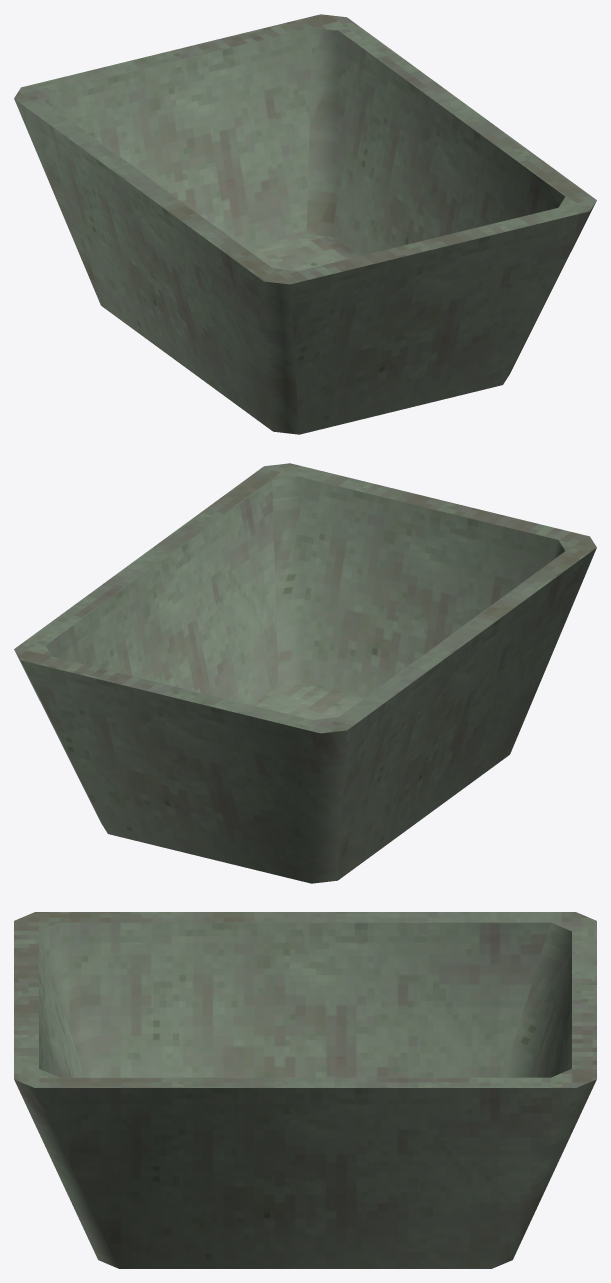
File: _PlasticBucket_1.FBX
3 views of the same model, one above another, from view 1: azimuth 30°, elevation 25°; view 2: azimuth 150°, elevation 25°; view 3: azimuth 270°, elevation 25° (orthographic). The views are drawn at different scales.
Visible parts, largest first — view 1: _PlasticBucket_1; view 2: _PlasticBucket_1; view 3: _PlasticBucket_1.
Part boxes in pixels (x1,y1,x2,y2): _PlasticBucket_1: (14, 14, 596, 434); _PlasticBucket_1: (14, 463, 596, 883); _PlasticBucket_1: (14, 912, 596, 1268).
Bounding box in the file's own units: 25 × 13.66 × 35.
Materials: 1 (1 with a texture image).
